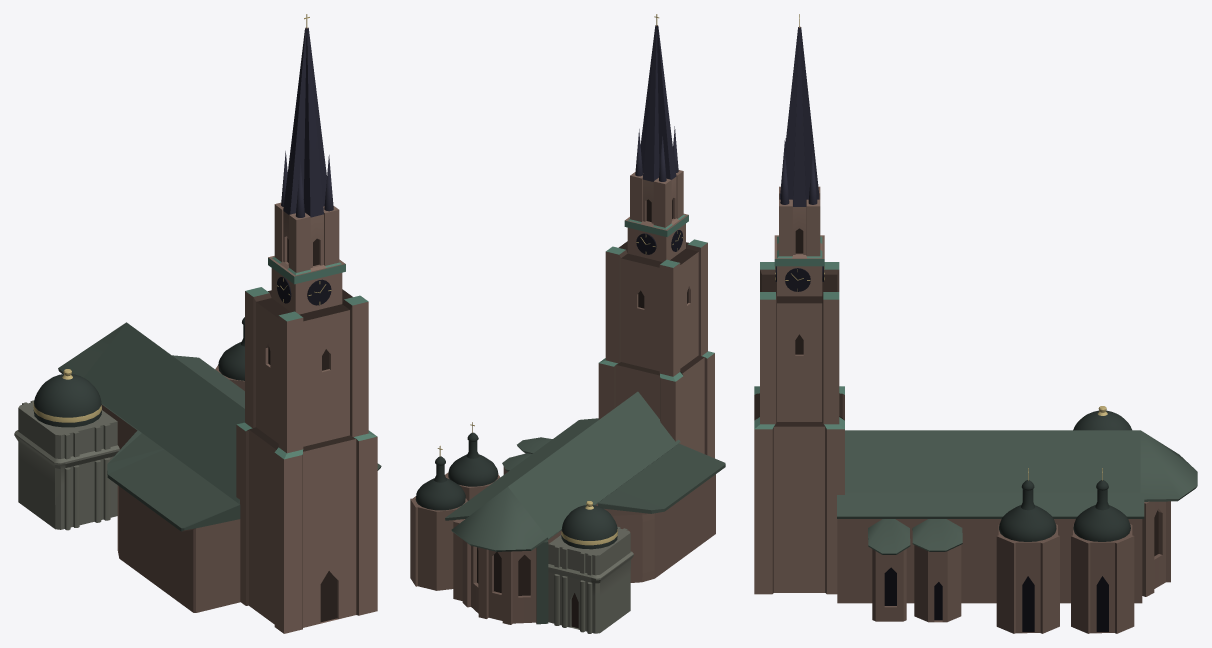
Rendered from Riddarholmskyrkan.fbx.
3 renders of one model, left to right at view 1: azimuth 30°, elevation 25°; view 2: azimuth 150°, elevation 25°; view 3: azimuth 270°, elevation 25°, orthographic. The views are drawn at different scales.
Visible parts, largest first — view 1: pCube2, pCube1, pCube5, pCube3, pSphere2, pCube9, pCylinder6, pSphere7; view 2: pCube2, pCube1, pCube5, pCube3, pCylinder6, pCylinder12, pCube9, pSphere2, pSphere7, pSphere5; view 3: pCube2, pCube5, pCube1, pCube9, pCylinder12, pCylinder2, pCylinder3, pCylinder6, pCube8, pSphere7, pSphere5, pCylinder7 (+2 smaller).
Boxes of the visible parts, box(x1,y1,x2,y2) form: pCube2: box(236, 27, 377, 633); pCube1: box(101, 404, 240, 612); pCube5: box(83, 322, 244, 504); pCube3: box(14, 400, 119, 530); pSphere2: box(33, 369, 101, 427); pCube9: box(172, 355, 244, 408); pCylinder6: box(58, 323, 125, 377); pSphere7: box(218, 342, 244, 380); pCube2: box(598, 25, 714, 458); pCube1: box(453, 443, 725, 624); pCube5: box(508, 391, 680, 539); pCube3: box(548, 526, 633, 633); pCylinder6: box(451, 487, 547, 551); pCylinder12: box(410, 496, 467, 590); pCube9: box(445, 418, 598, 520); pSphere2: box(561, 501, 617, 549); pSphere7: box(415, 478, 465, 510); pSphere5: box(448, 454, 498, 486); pCube2: box(754, 26, 844, 594); pCube5: box(845, 430, 1140, 492); pCube1: box(837, 501, 1170, 603); pCube9: box(837, 492, 1144, 518); pCylinder12: box(1071, 524, 1134, 633); pCylinder2: box(996, 524, 1059, 633); pCylinder3: box(914, 545, 961, 622); pCylinder6: box(1140, 430, 1197, 501); pCube8: box(872, 549, 906, 621); pSphere7: box(1073, 505, 1130, 541); pSphere5: box(999, 505, 1056, 541); pCylinder7: box(912, 519, 962, 551).
Bounding box in the file's own units: 149 × 346 × 248.
